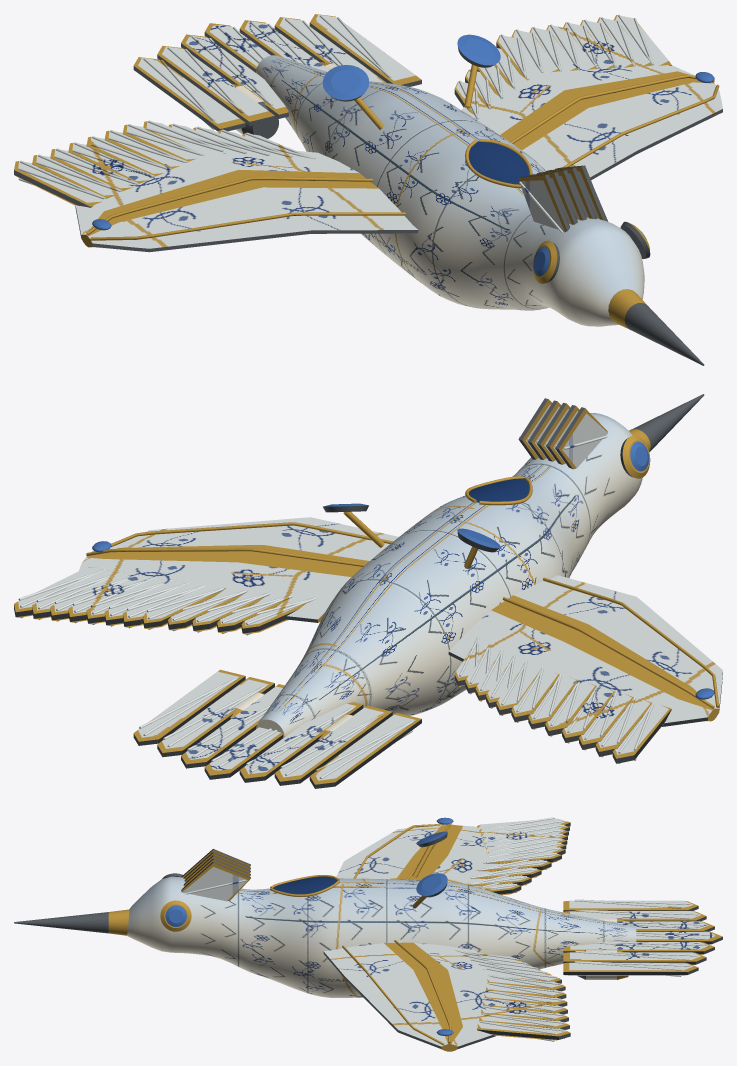
The picture shows the model from 3 angles, top to bottom: view 1: azimuth 30°, elevation 25°; view 2: azimuth 150°, elevation 25°; view 3: azimuth 270°, elevation 25°; orthographic projection. The views are drawn at different scales.
Visible parts, largest first — view 1: kingfisher_hull; view 2: kingfisher_hull; view 3: kingfisher_hull.
Boxes of the visible parts, <box> form: kingfisher_hull: <box>14,14,722,365</box>; kingfisher_hull: <box>14,394,722,788</box>; kingfisher_hull: <box>14,817,722,1051</box>.
Size of the model in its own units: 12.5 by 3.63 by 17.
1 material, 1 textured.
